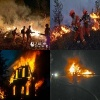fire: (1, 53, 42, 98), (50, 25, 70, 44), (70, 63, 92, 77), (89, 11, 100, 31), (29, 22, 41, 37), (4, 25, 11, 38), (20, 26, 23, 33), (13, 26, 18, 29)
